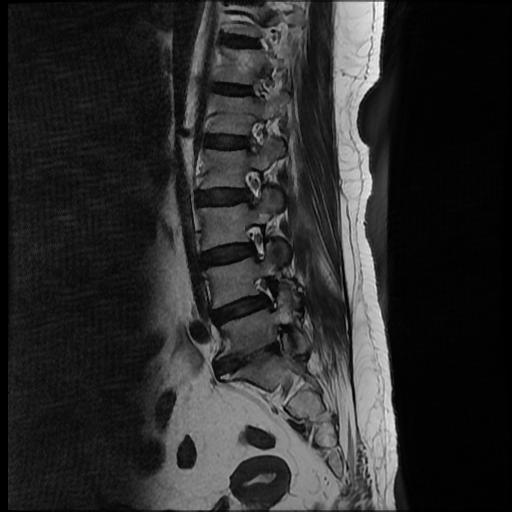RFS0: (233, 160, 274, 213), (238, 215, 276, 270), (235, 113, 274, 159)
RFS1: (245, 269, 289, 321)
